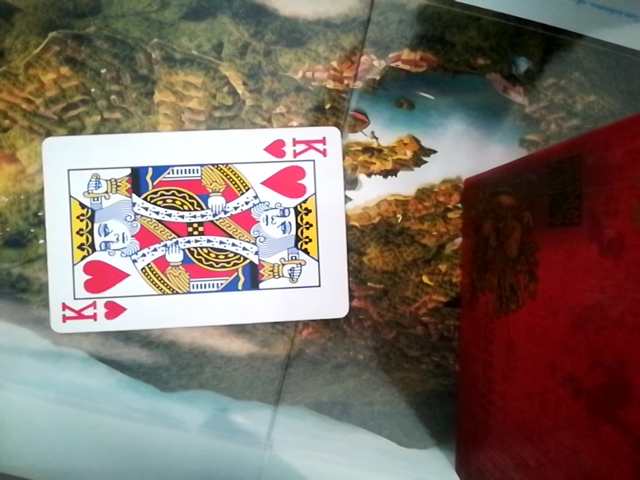hx k: (35, 128, 344, 336)
